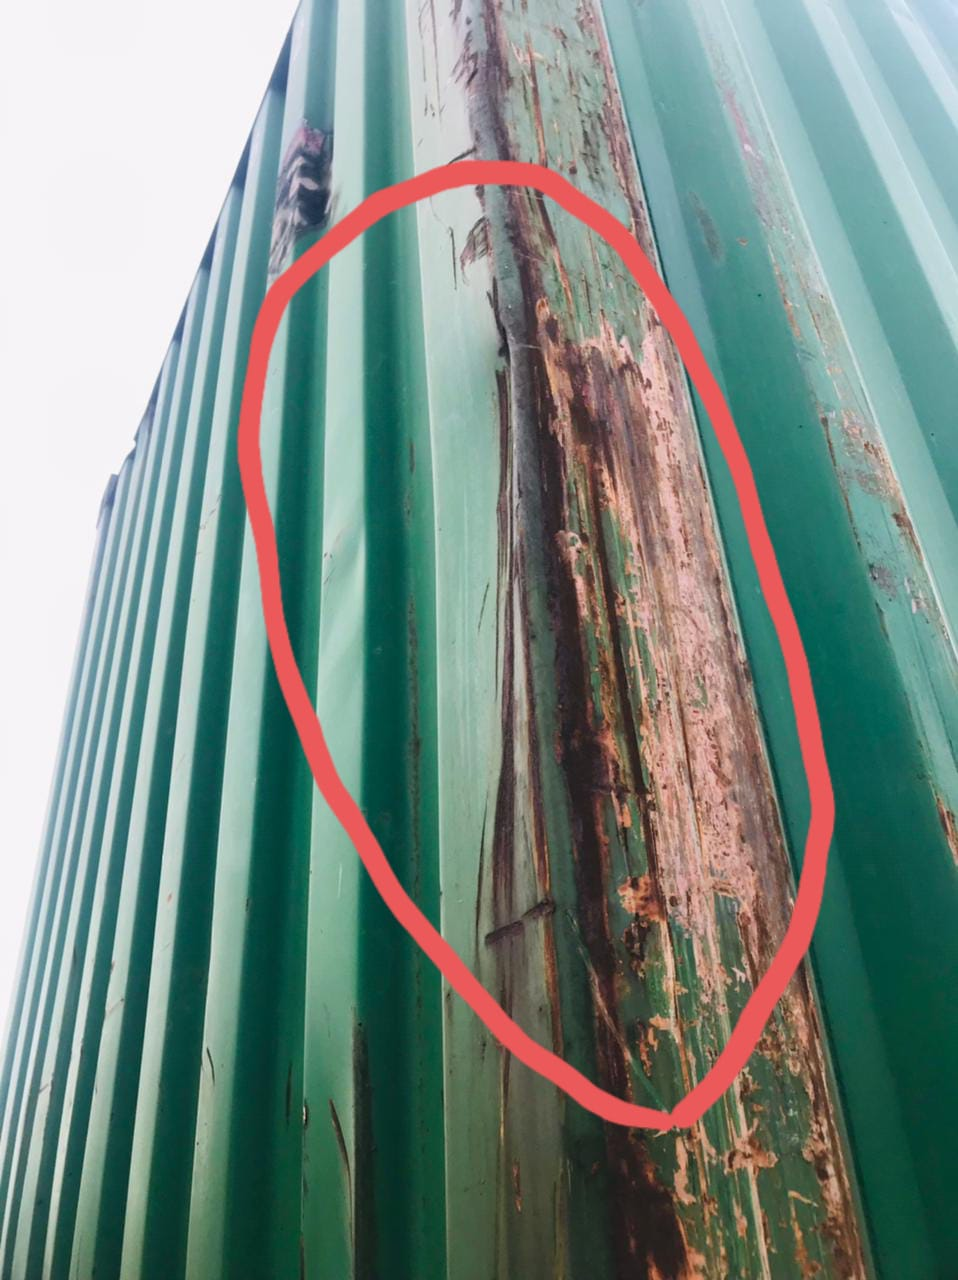front_side: (428, 4, 958, 1280)
left_side: (24, 6, 535, 1280)
